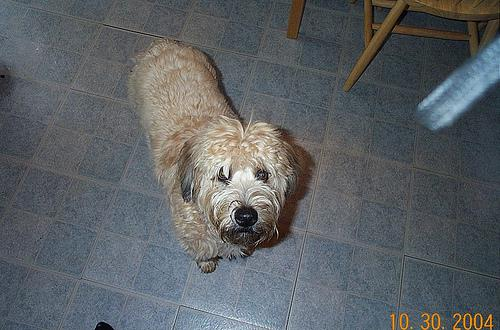dog-wheaten_terrier: (180, 125, 298, 238)
